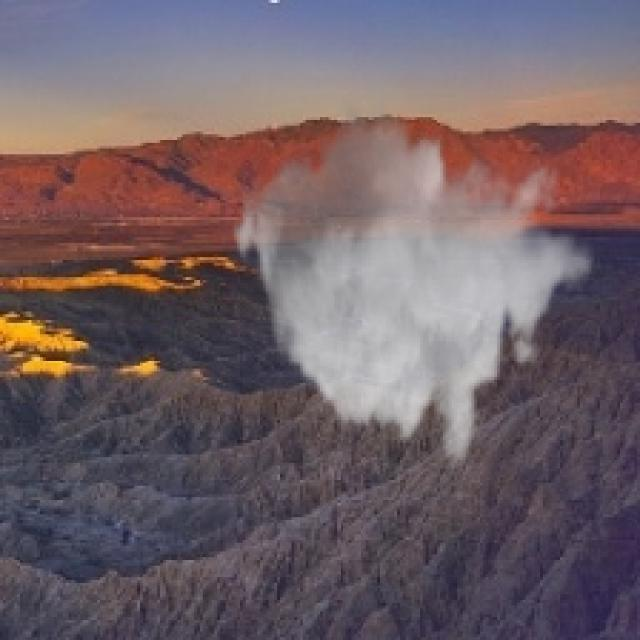Smoke: (228, 94, 594, 472)
